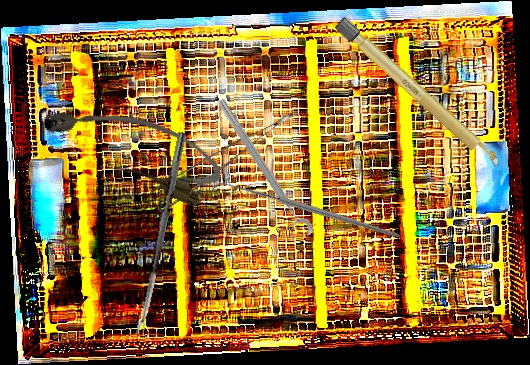Cannula: (36, 81, 229, 212)
Fixation Ring: (205, 95, 316, 246)
Hook Surgical: (210, 114, 403, 310)
Scalpel Handle: (333, 15, 505, 174)
Surgical Spoon: (134, 131, 187, 336)
Tissue Forceps: (145, 112, 307, 213)
